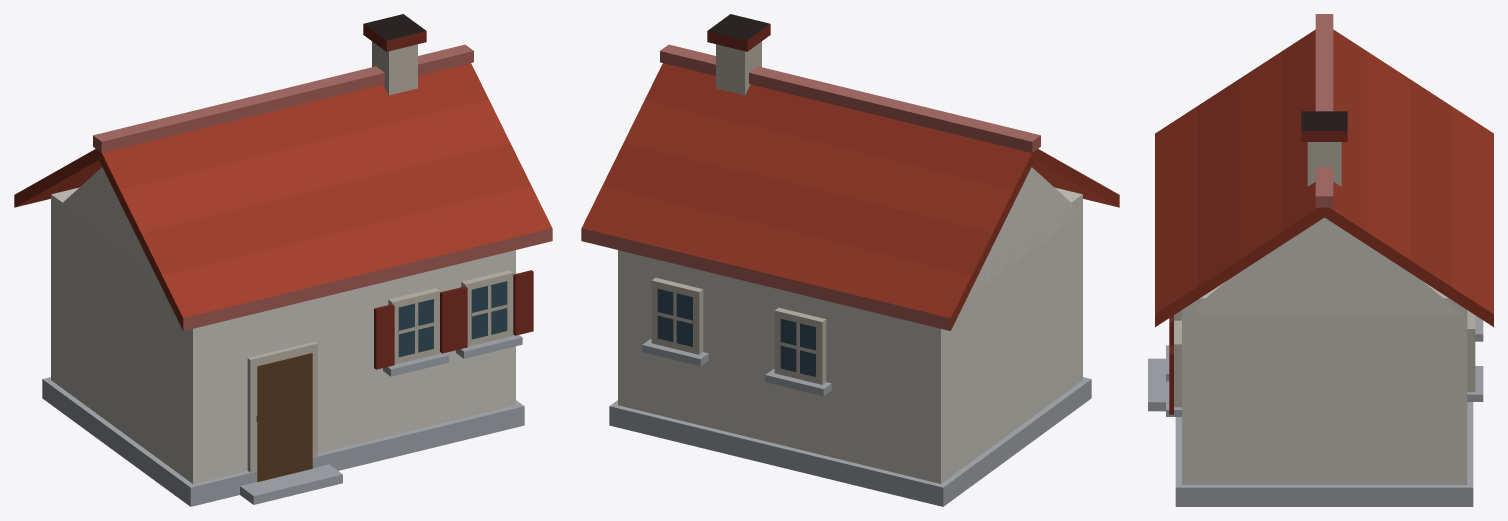
The model's file is house_white_a.glb.
3 views of the same model, side by side, from view 1: azimuth 30°, elevation 25°; view 2: azimuth 150°, elevation 25°; view 3: azimuth 270°, elevation 25° (orthographic).
Parts seen in each view (by area): view 1: house_white_a; view 2: house_white_a; view 3: house_white_a.
Part boxes in pixels (left/top/right/bottom): house_white_a: left=14, top=14, right=552, bottom=506; house_white_a: left=581, top=14, right=1119, bottom=506; house_white_a: left=1148, top=14, right=1493, bottom=506.
Bounding box in the file's own units: 4.84 × 4.44 × 3.88.
